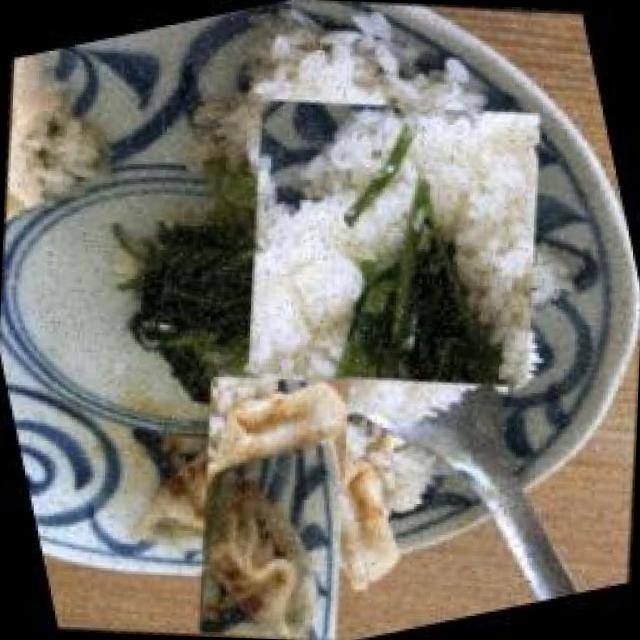fried_dumplings: (121, 353, 424, 640)
rice: (180, 31, 604, 454)
water_spinach: (118, 203, 342, 381)
